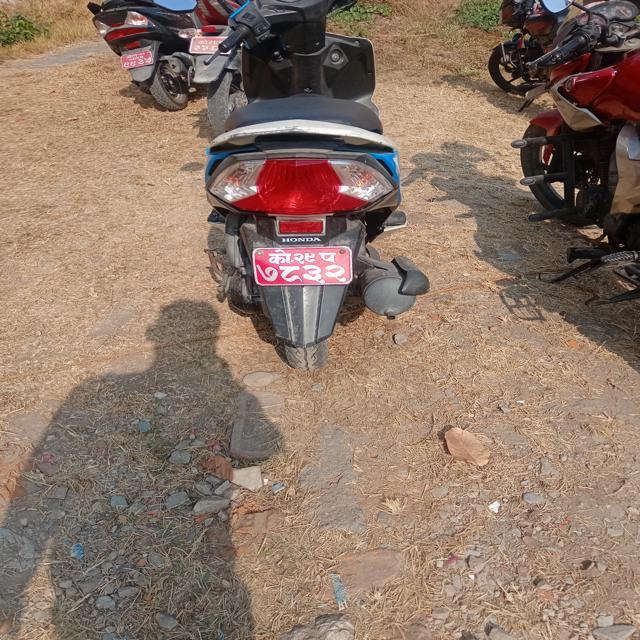license_plate: (245, 242, 364, 294)
